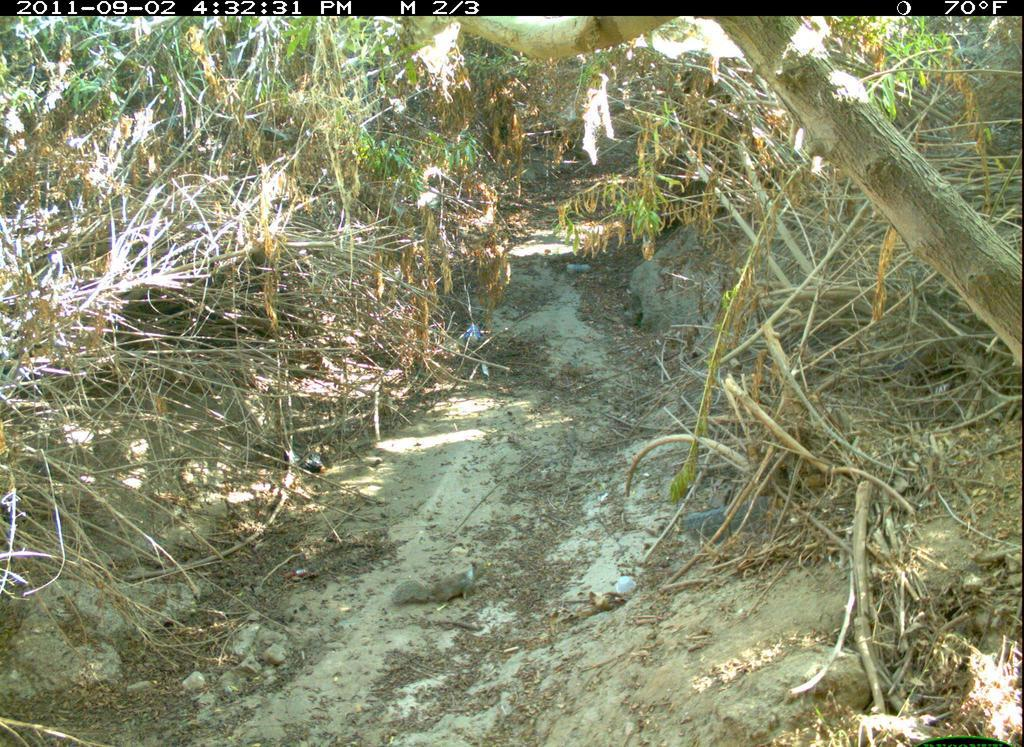squirrel: (385, 556, 488, 613)
